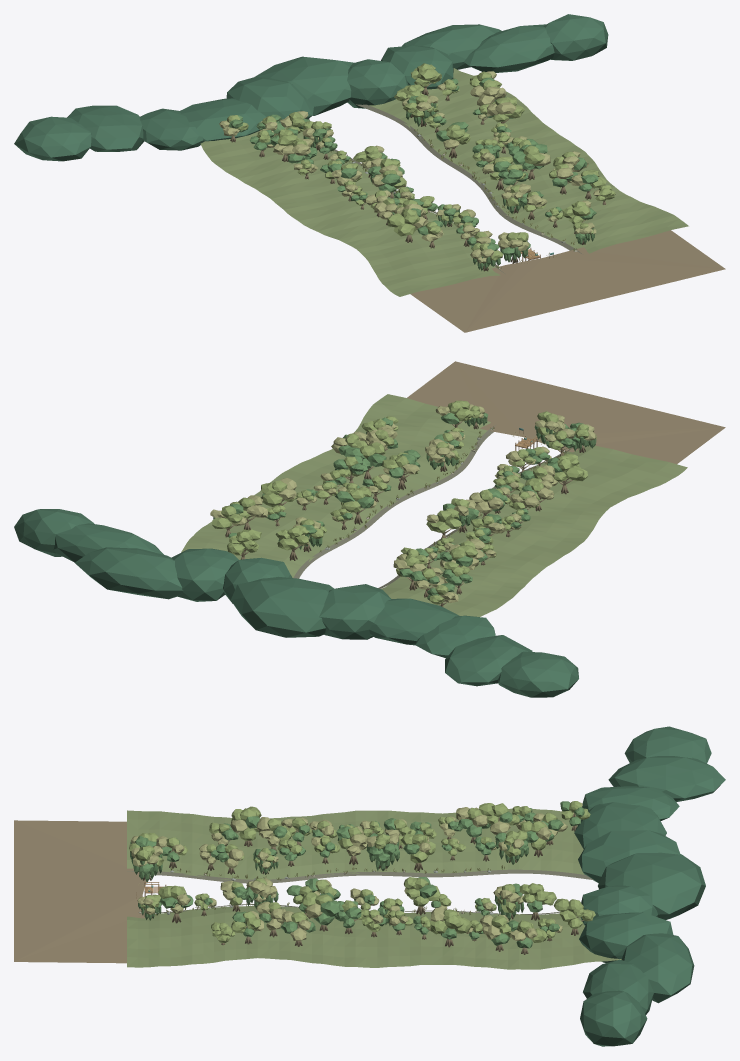
The model's file is managed_oxbow.glb.
The picture shows the model from 3 angles, top to bottom: view 1: azimuth 30°, elevation 25°; view 2: azimuth 150°, elevation 25°; view 3: azimuth 270°, elevation 25°; orthographic projection. The views are drawn at different scales.
Parts seen in each view (by area): view 1: Grass, FoliageDeep, Soil, FoliageSun, FoliageGold, FoliageGreen, Mud, Bark; view 2: FoliageDeep, Grass, Soil, FoliageSun, FoliageGold, FoliageGreen, Mud, Bark, BarkLight; view 3: Grass, FoliageDeep, Soil, FoliageSun, FoliageGreen, FoliageGold, Mud, Bark.
Part boxes in pixels (x1,y1,x2,y2): Grass: (200,68,688,296); FoliageDeep: (14,14,608,161); Soil: (410,230,725,332); FoliageSun: (225,63,615,260); FoliageGold: (219,71,600,263); FoliageGreen: (229,77,598,270); Mud: (308,104,581,273); Bark: (230,86,605,271); FoliageDeep: (14,509,578,697); Grass: (181,394,687,616); Soil: (407,361,725,464); FoliageSun: (212,400,589,604); FoliageGold: (210,404,596,602); FoliageGreen: (213,413,596,600); Mud: (293,425,573,588); Bark: (225,421,585,607); BarkLight: (226,421,572,605); Grass: (127,808,621,969); FoliageDeep: (574,726,725,1046); Soil: (14,820,146,963); FoliageSun: (129,801,595,942); FoliageGreen: (130,801,584,948); FoliageGold: (131,802,582,940); Mud: (127,869,593,914); Bark: (143,813,578,954).
Bounding box in the file's own units: 172 × 14.88 × 170.
